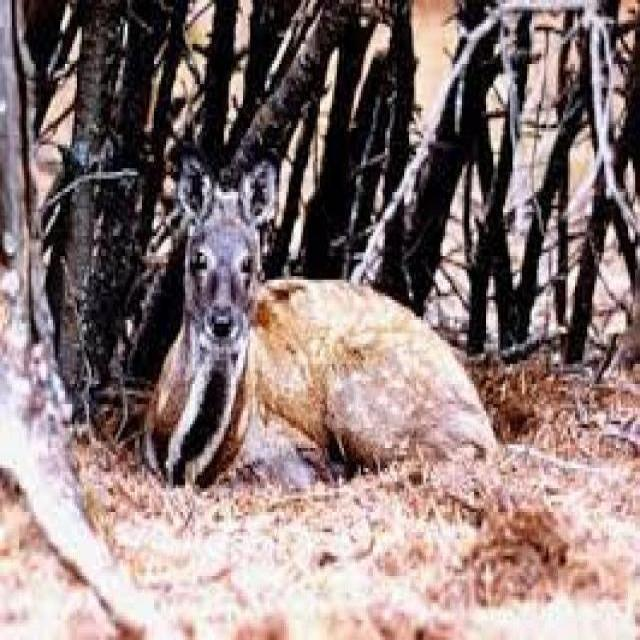deer: (130, 134, 498, 482)
